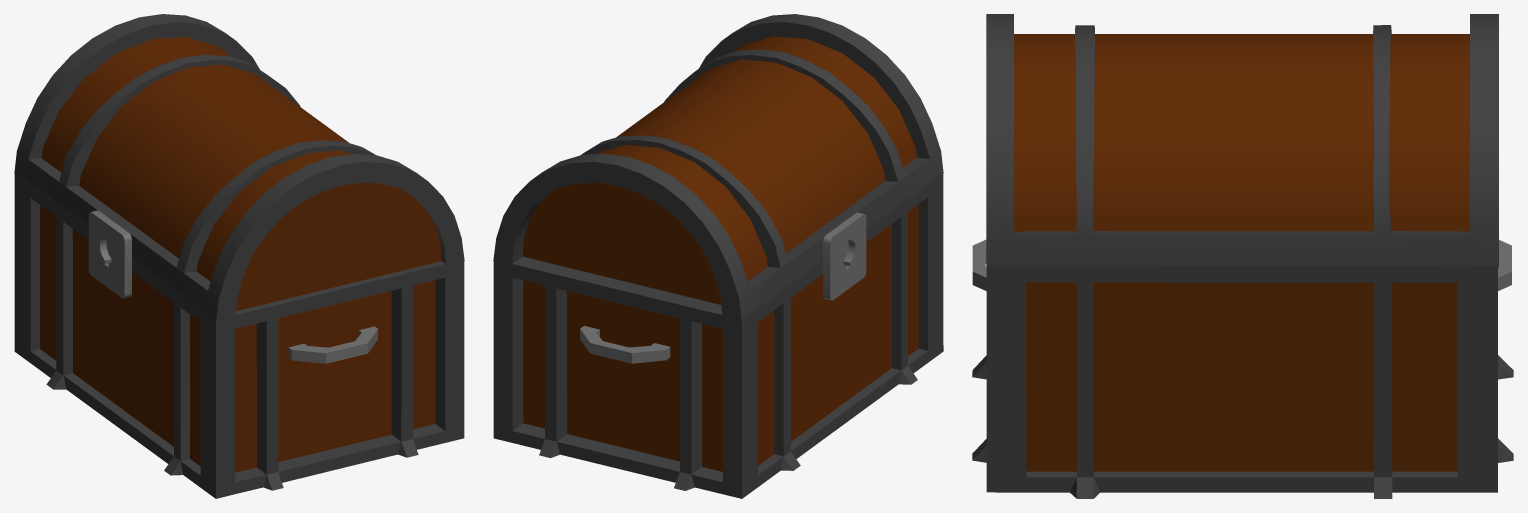
The model's file is jesti.fbx.
3 views of the same model, side by side, from view 1: azimuth 30°, elevation 25°; view 2: azimuth 150°, elevation 25°; view 3: azimuth 270°, elevation 25° (orthographic). The views are drawn at different scales.
Visible parts, largest first — view 1: Cube, Cylinder.001, Cube.004; view 2: Cube, Cylinder.001, Cube.004; view 3: Cube, Cylinder.001, Cube.004.
Part boxes in pixels (x1,y1,x2,y2): Cube: [40, 36, 441, 472]; Cylinder.001: [14, 14, 464, 498]; Cube.004: [88, 210, 377, 363]; Cube: [523, 36, 918, 471]; Cylinder.001: [493, 14, 943, 498]; Cube.004: [580, 212, 866, 363]; Cube: [1014, 34, 1469, 471]; Cylinder.001: [972, 14, 1513, 498]; Cube.004: [972, 239, 1511, 290].
Size of the model in its own units: 9.5 by 10.27 by 13.07.
